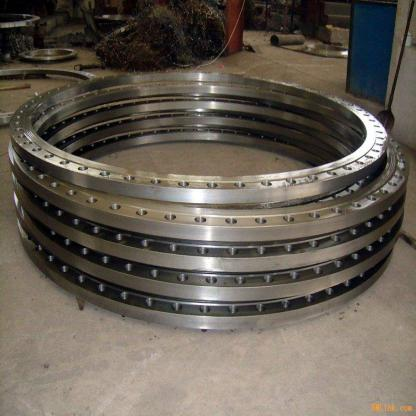FOD: (7, 67, 392, 207)
